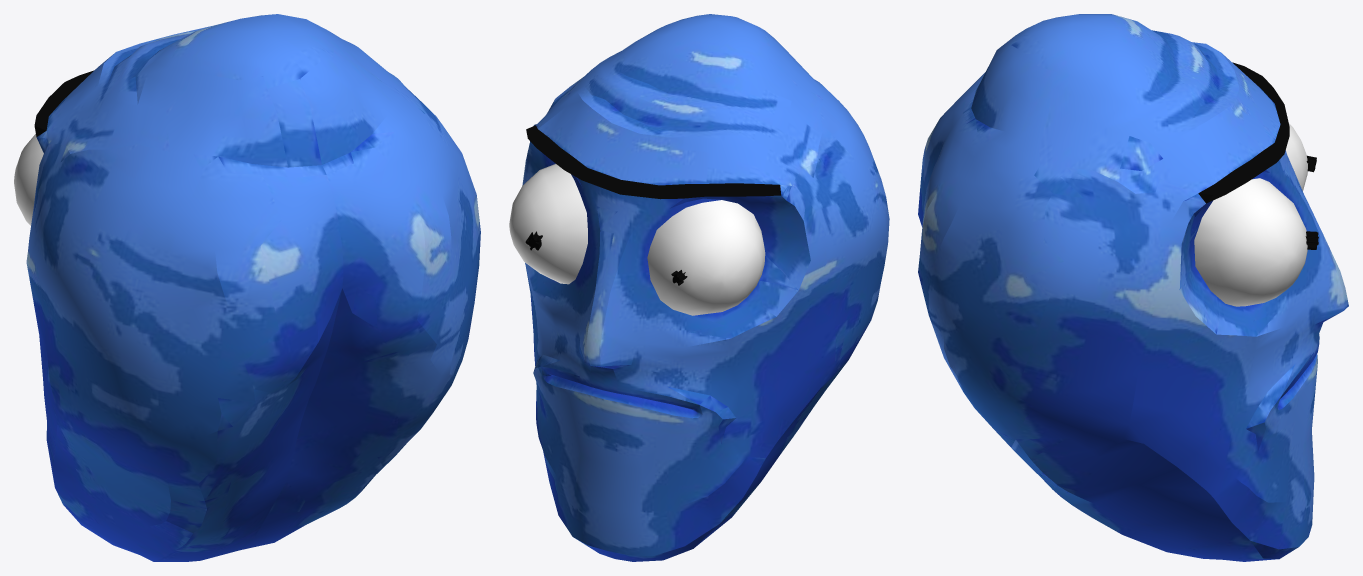
The model's file is crom-blue-anim.glb.
3 views of the same model, side by side, from view 1: azimuth 30°, elevation 25°; view 2: azimuth 150°, elevation 25°; view 3: azimuth 270°, elevation 25° (orthographic). The views are drawn at different scales.
Visible parts, largest first — view 1: zr1; view 2: zr1; view 3: zr1.
Part boxes in pixels (<box>): zr1: <box>14,14,480,561</box>; zr1: <box>509,14,889,561</box>; zr1: <box>918,14,1348,561</box>.
Bounding box in the file's own units: 66.64 × 91.49 × 68.71.
3 materials, 1 textured.
